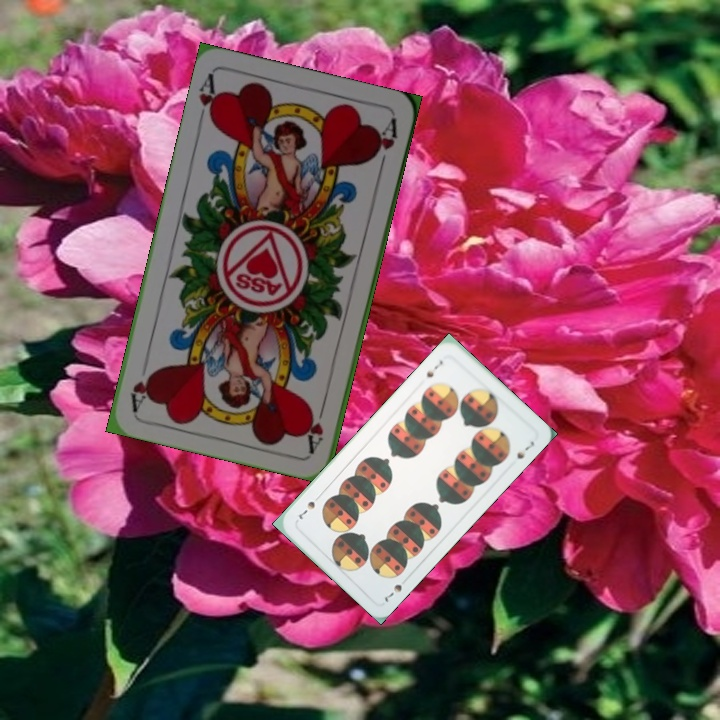HA: (195, 70, 223, 129), (303, 396, 329, 455)
S7: (379, 580, 405, 605), (422, 356, 446, 380)
